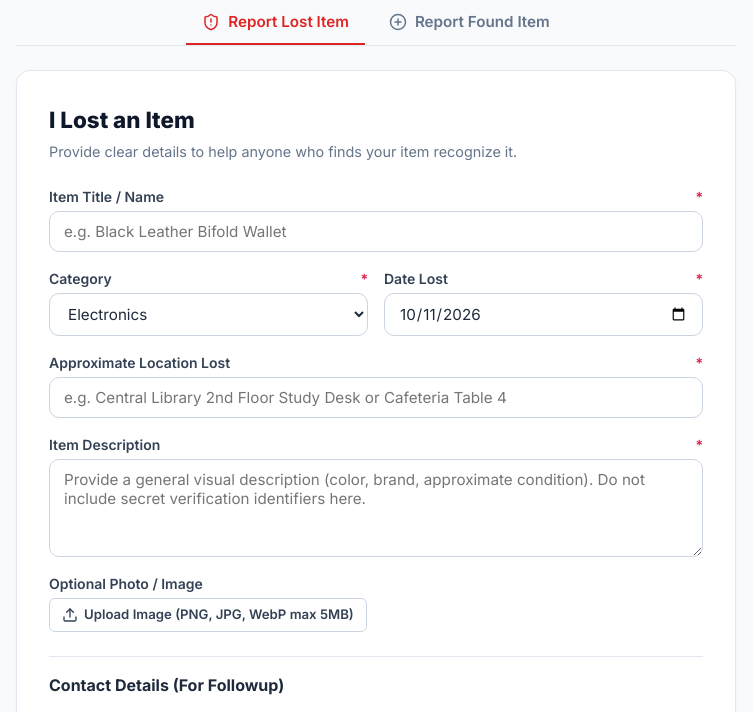
ReportItemPage Component › allows switching between lost and found tabs
Click the button "Report Found Item".
click(469, 22)  # box [373,0,566,45]
(page scrolled)
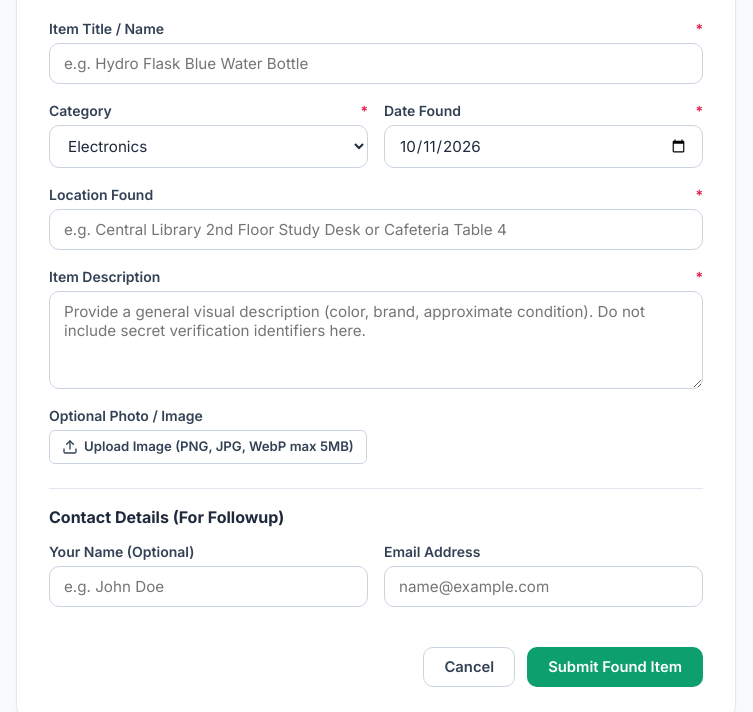
expect the button "Submit Found Item" is shown: met, box [527,647,703,687]
